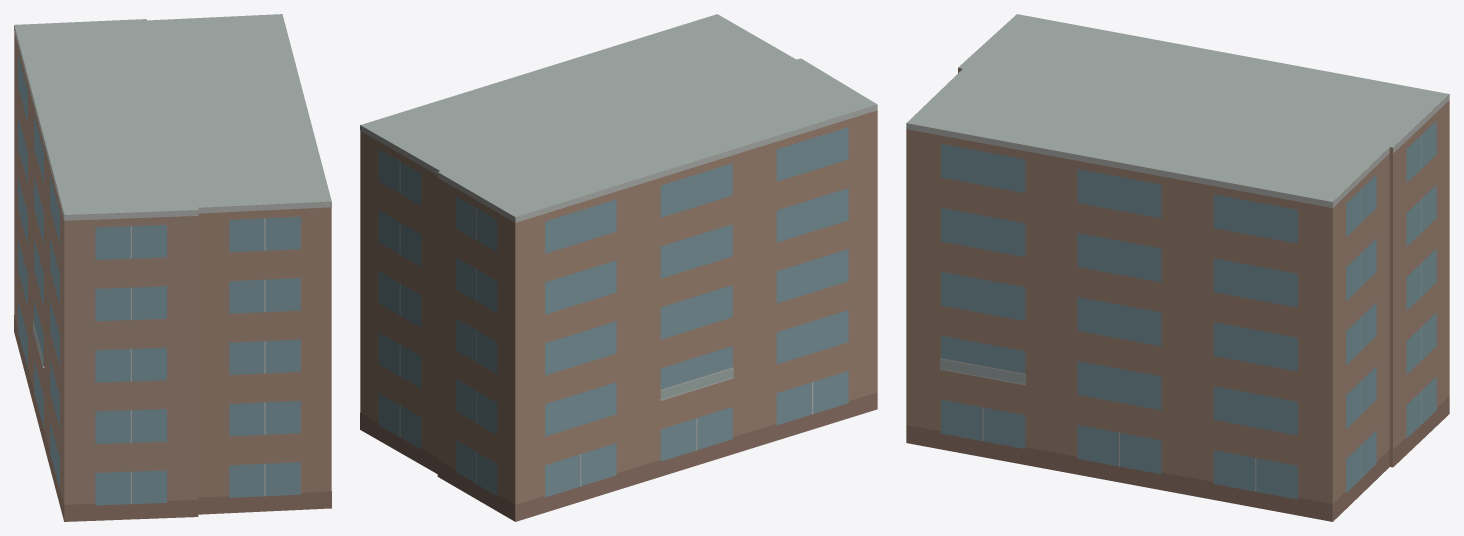
Rendered from survey-upis-32739945.glb.
3 views of the same model, side by side, from view 1: azimuth 30°, elevation 25°; view 2: azimuth 150°, elevation 25°; view 3: azimuth 270°, elevation 25° (orthographic). The views are drawn at different scales.
Visible parts, largest first — view 1: survey-upis-32739945.tmp; view 2: survey-upis-32739945.tmp; view 3: survey-upis-32739945.tmp.
Part boxes in pixels (<box>): survey-upis-32739945.tmp: <box>14,14,331,521</box>; survey-upis-32739945.tmp: <box>360,14,877,521</box>; survey-upis-32739945.tmp: <box>906,14,1449,521</box>.
Size of the model in its own units: 16.4 by 13 by 20.02.
